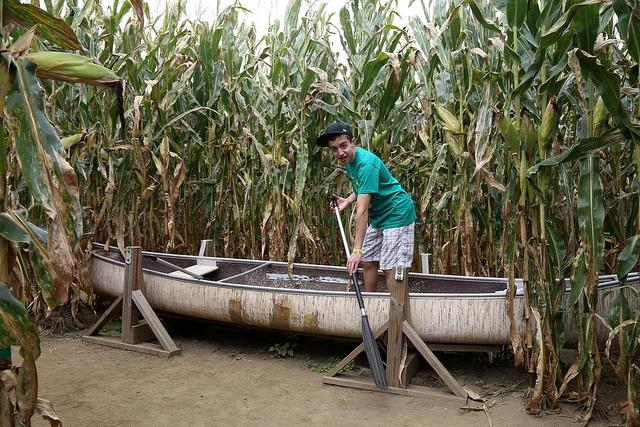corn: (24, 52, 126, 146), (486, 98, 522, 172), (540, 95, 560, 150), (430, 101, 460, 134), (520, 109, 536, 162), (592, 95, 607, 136), (444, 132, 462, 162), (372, 130, 388, 151), (167, 136, 182, 157), (264, 154, 286, 165), (160, 137, 170, 159), (208, 124, 216, 150), (527, 182, 535, 202)
